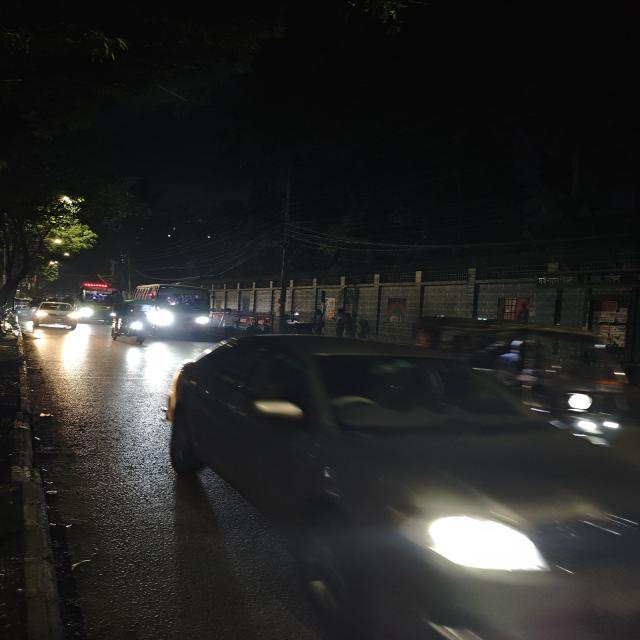bus: (145, 283, 212, 339), (76, 280, 124, 322)
car: (166, 326, 584, 579), (31, 299, 80, 331)
rickshaw: (108, 301, 154, 347)
